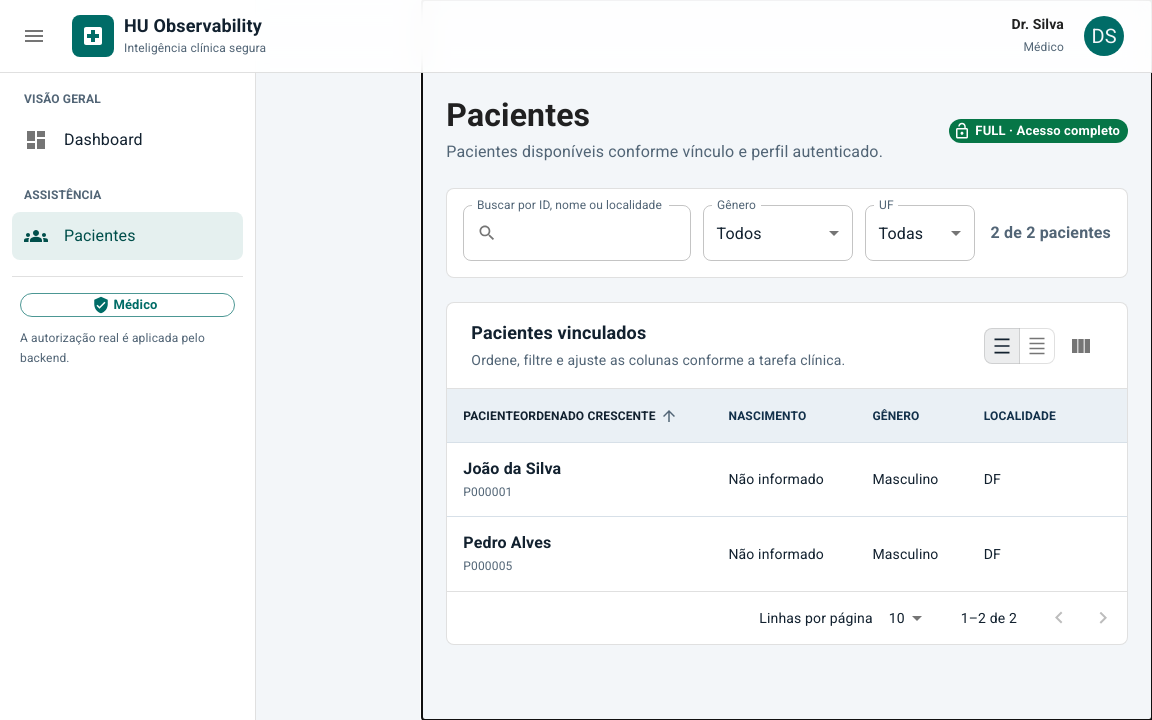
Test: Patients › shows empty state when search has no results
The width and height of the screenshot is (1152, 720).
Expected: the text "João da Silva" is shown, [463, 458, 561, 478]
Type "sem resultado" into the field labelled "Buscar por ID, nome ou localidade" at coordinates (598, 233), box [505, 205, 691, 261]
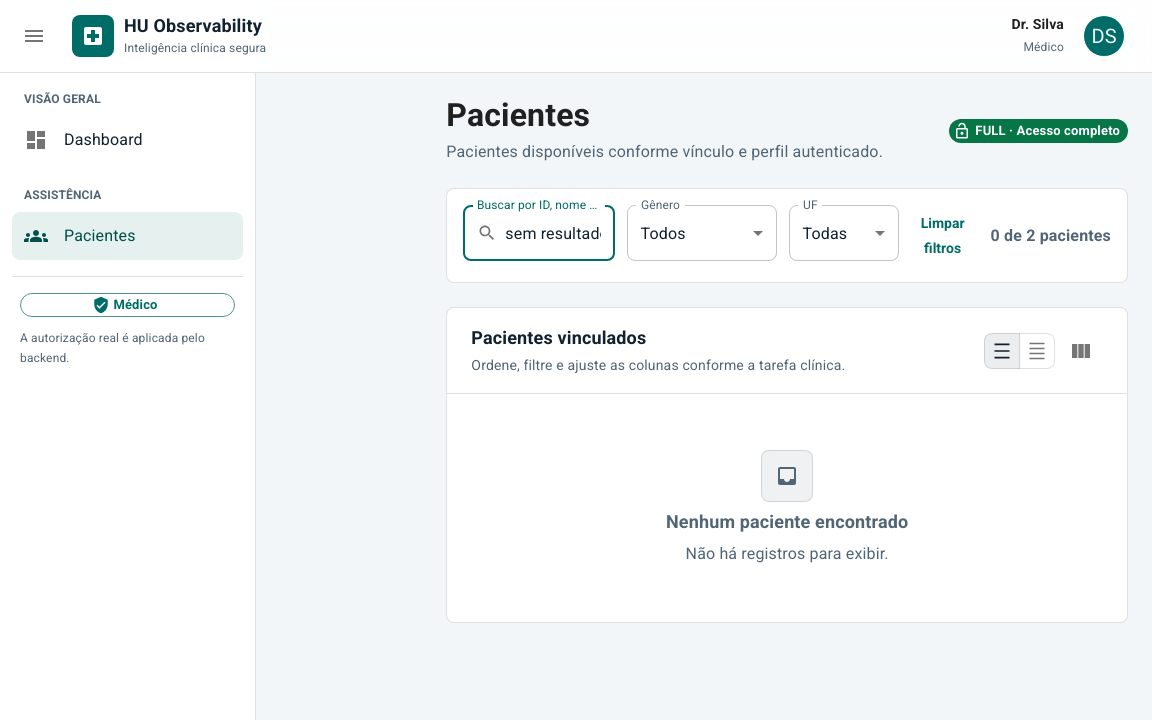
Expected: the heading "Nenhum paciente encontrado" is shown, [666, 510, 908, 534]
